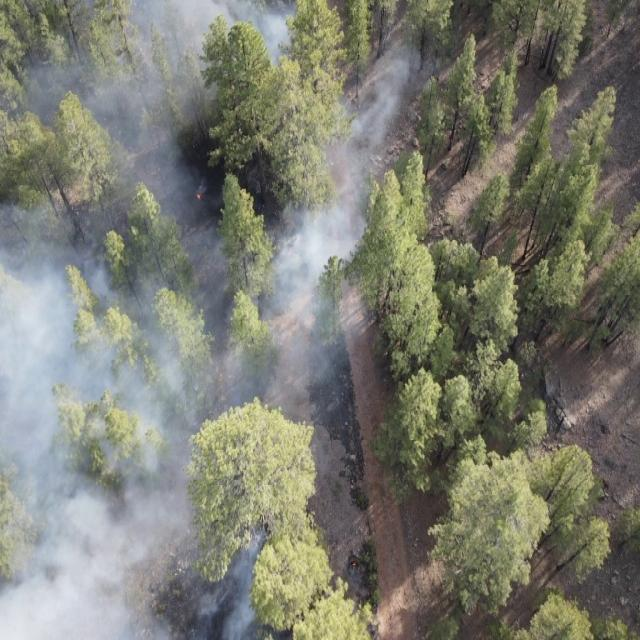fire: (194, 188, 204, 204), (351, 561, 359, 569)
smoke: (0, 0, 423, 315), (0, 312, 372, 640)
